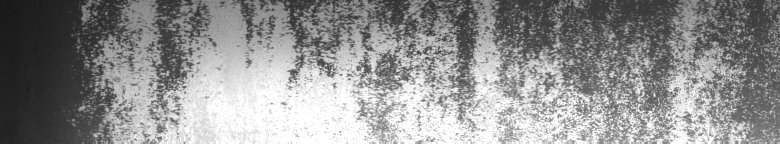kb: (67, 4, 776, 136)
